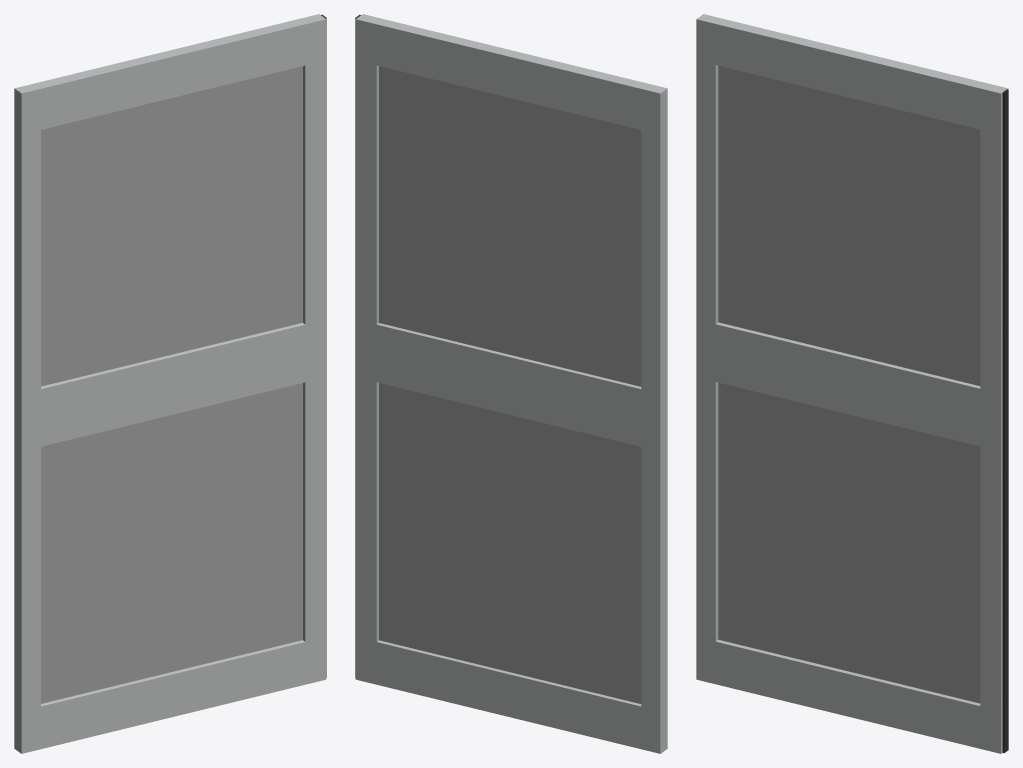
Rendered from Silder_Door.fbx.
3 views of the same model, side by side, from view 1: azimuth 30°, elevation 25°; view 2: azimuth 150°, elevation 25°; view 3: azimuth 330°, elevation 25° (orthographic).
Parts seen in each view (by area): view 1: Slider_Door_GEO; view 2: Slider_Door_GEO; view 3: Slider_Door_GEO.
Boxes of the visible parts, bbox=[...] form: Slider_Door_GEO: bbox=[14, 14, 326, 753]; Slider_Door_GEO: bbox=[355, 14, 667, 753]; Slider_Door_GEO: bbox=[696, 14, 1008, 753].
Size of the model in its own units: 192 by 396 by 7.77.
